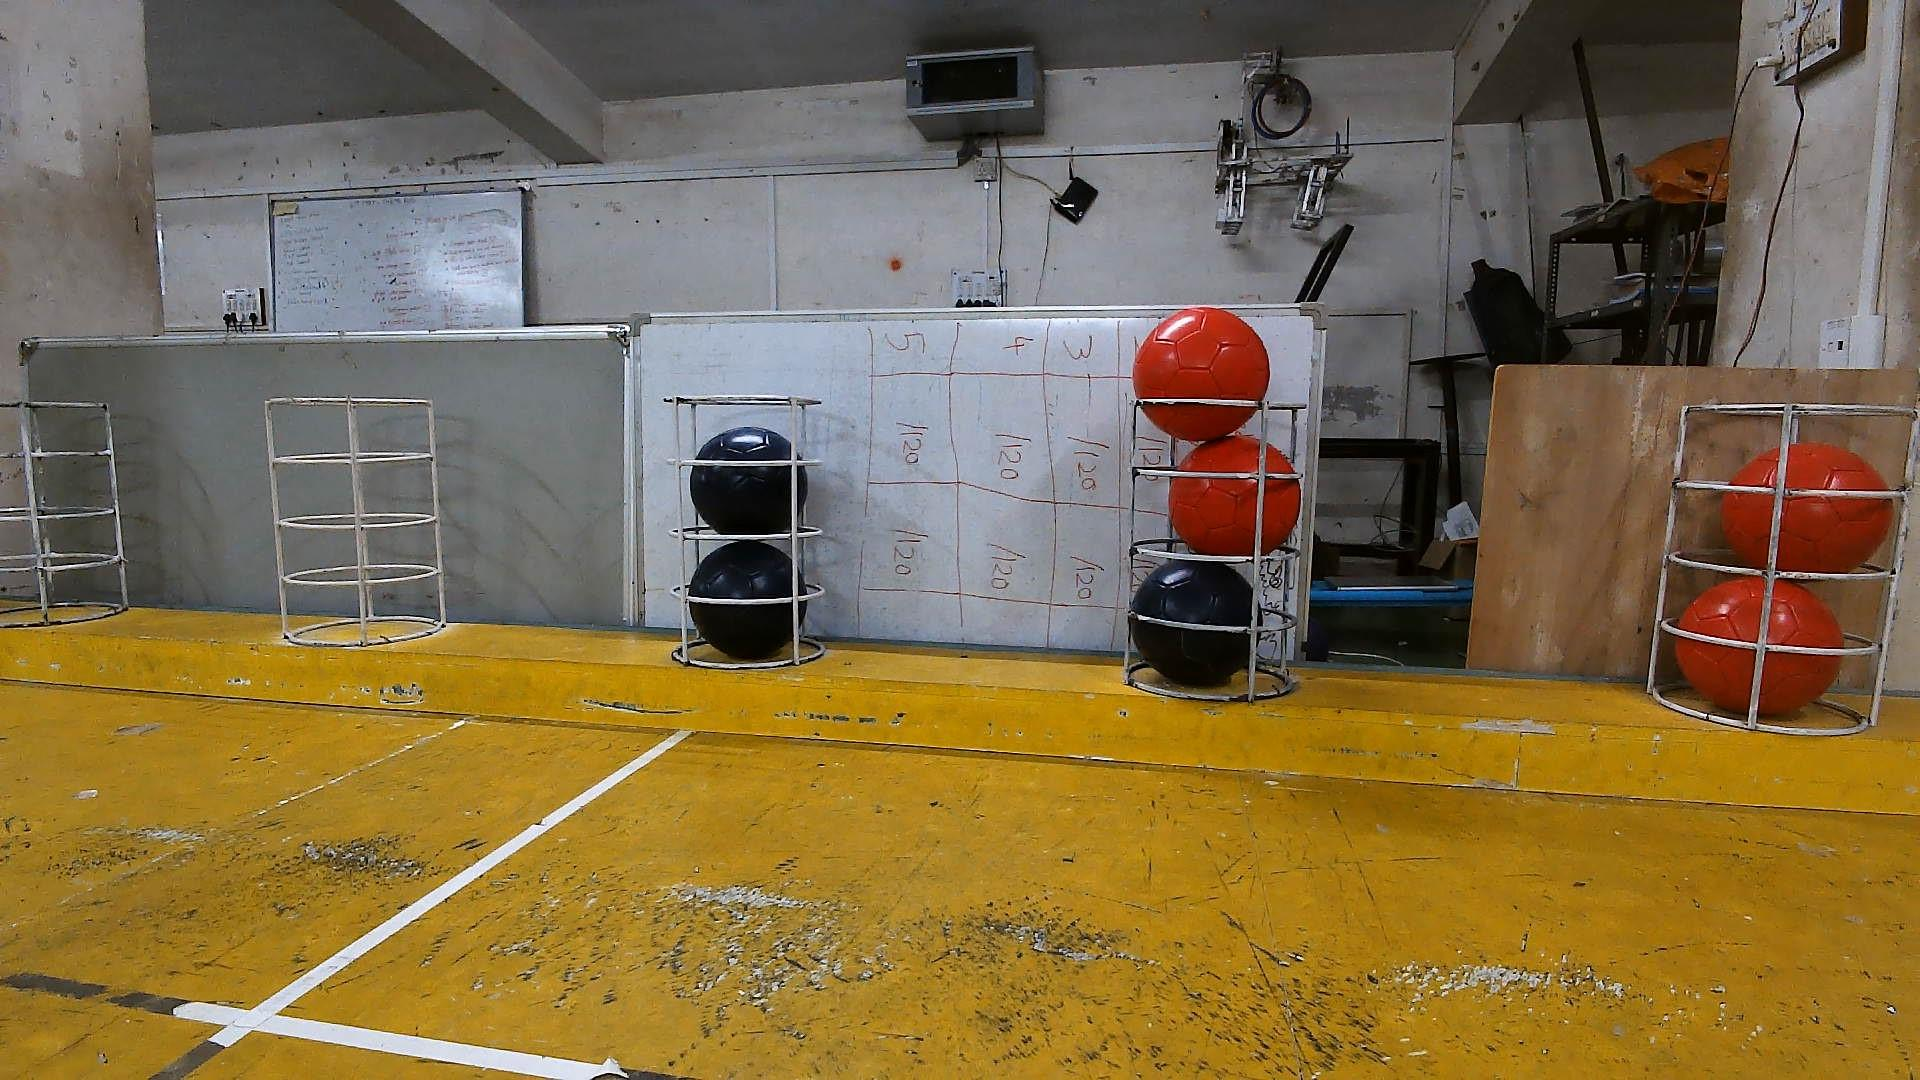dhoka: (1129, 559, 1264, 686), (690, 541, 810, 661), (690, 424, 806, 536)
laale: (1721, 442, 1894, 574), (1675, 583, 1844, 718), (1132, 308, 1271, 442), (1166, 431, 1301, 555)
